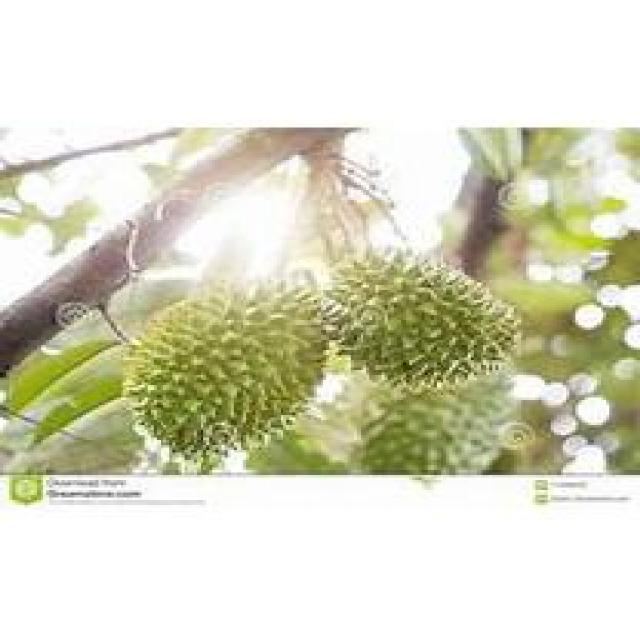fruit: (108, 238, 354, 472), (329, 217, 529, 405)
